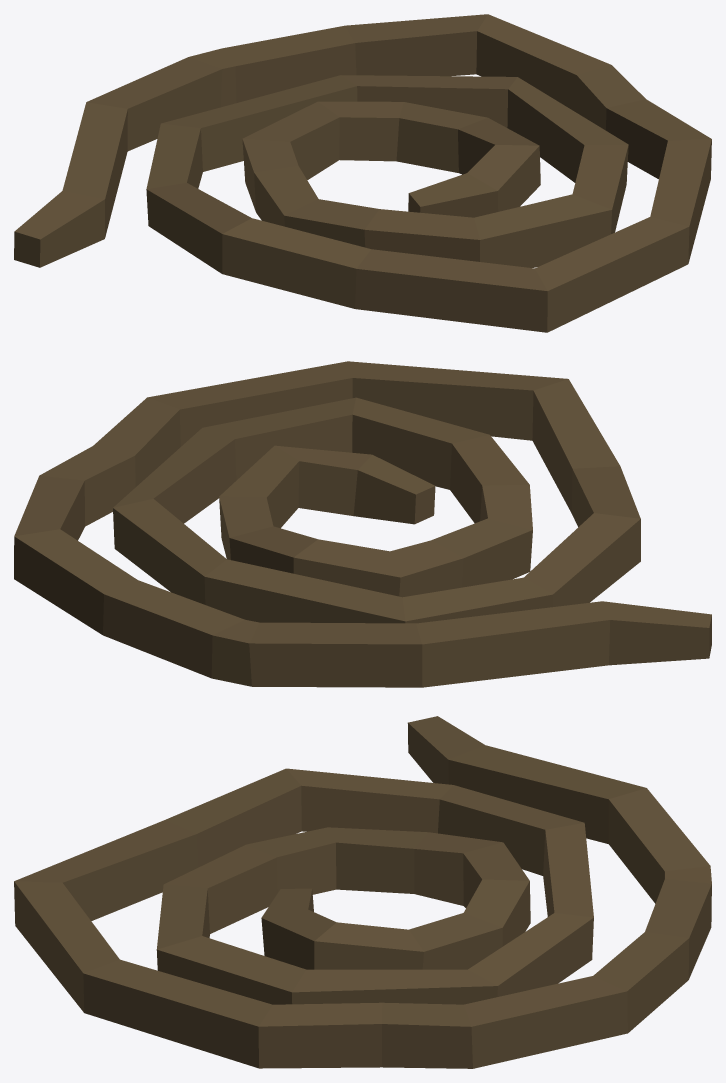
The model's file is Rope_1.fbx.
The picture shows the model from 3 angles, top to bottom: view 1: azimuth 30°, elevation 25°; view 2: azimuth 150°, elevation 25°; view 3: azimuth 270°, elevation 25°; orthographic projection. The views are drawn at different scales.
Visible parts, largest first — view 1: Rope_1; view 2: Rope_1; view 3: Rope_1.
Boxes of the visible parts, box(x1,y1,x2,y2) form: Rope_1: box(14, 14, 711, 332); Rope_1: box(14, 361, 711, 687); Rope_1: box(14, 716, 711, 1068).
Bounding box in the file's own units: 0.6243 × 0.0558 × 0.5822.
